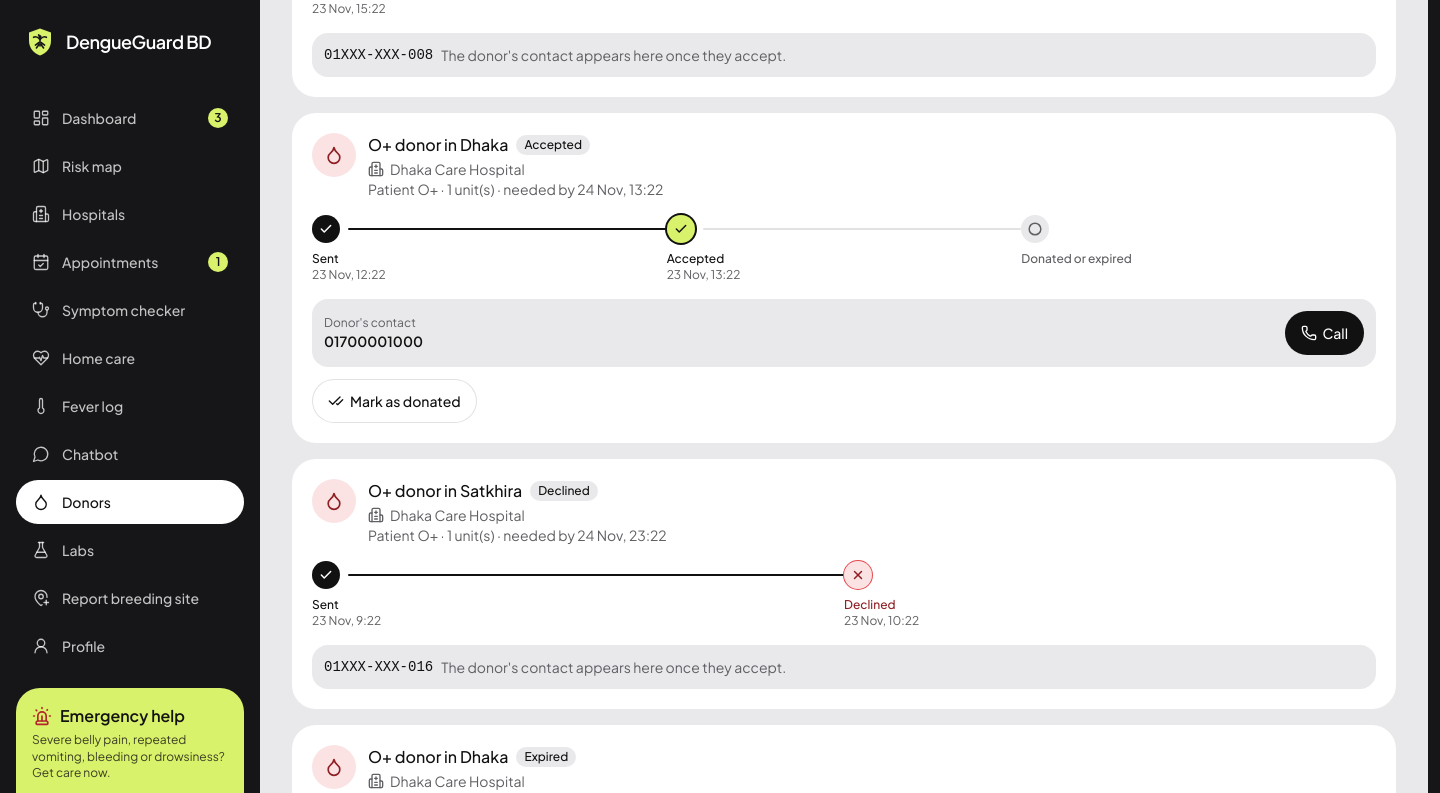
it: My requests (/donors/requests) › shows the donor contact only after acceptance, and can mark it donated
The width and height of the screenshot is (1440, 793).
(page scrolled)
Expected: the text "01XXX-XXX-008" is shown, [324,45,433,65]
Expected: the text "01XXX-XXX-016" is shown, [324,657,433,677]
Click the button "Mark as donated" at (394, 401), box [312,379,477,423]
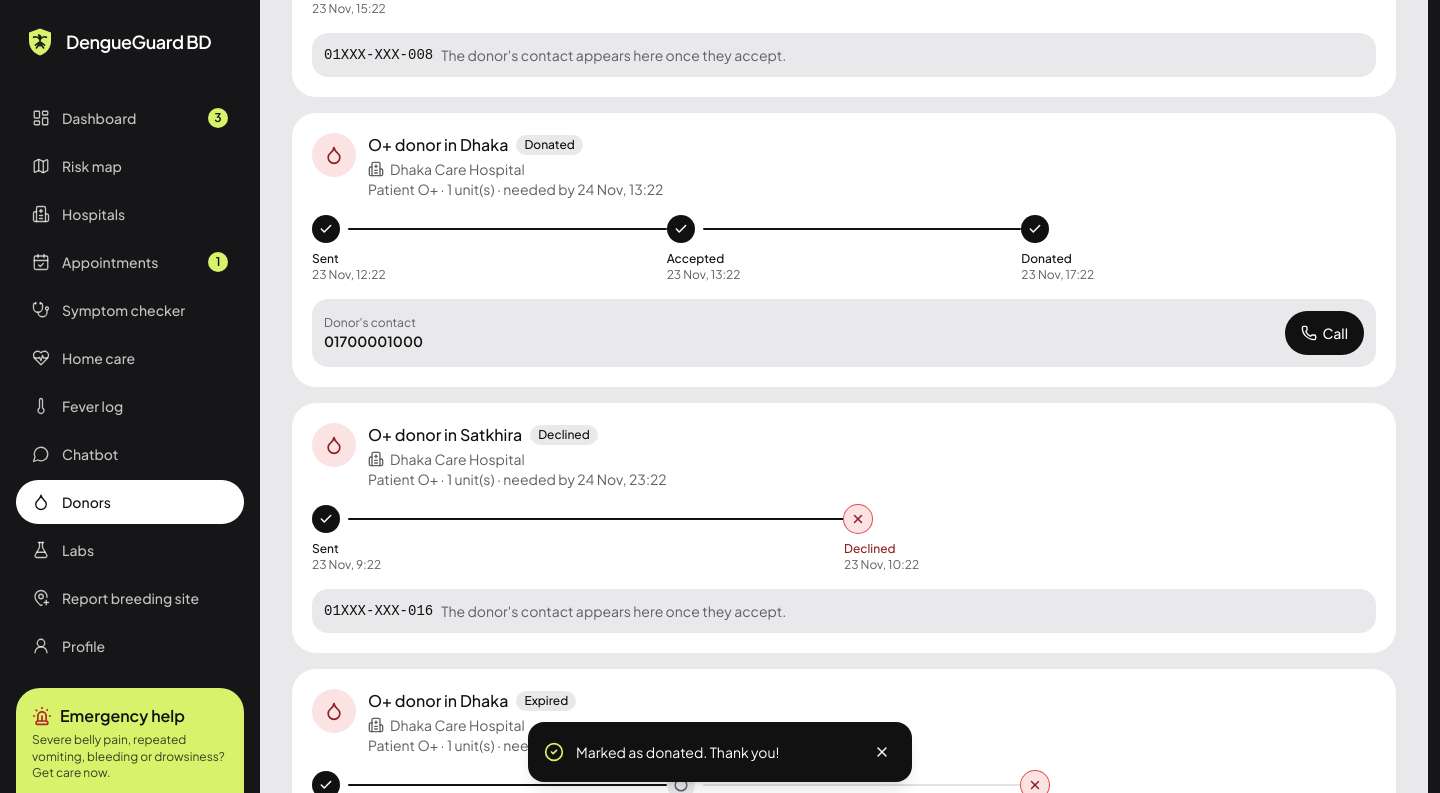
Expected: the list named "Request status" shows "Donated", [1021,251,1072,266]
Expected: the text "Marked as donated. Thank you!" is shown, [576,743,780,761]
